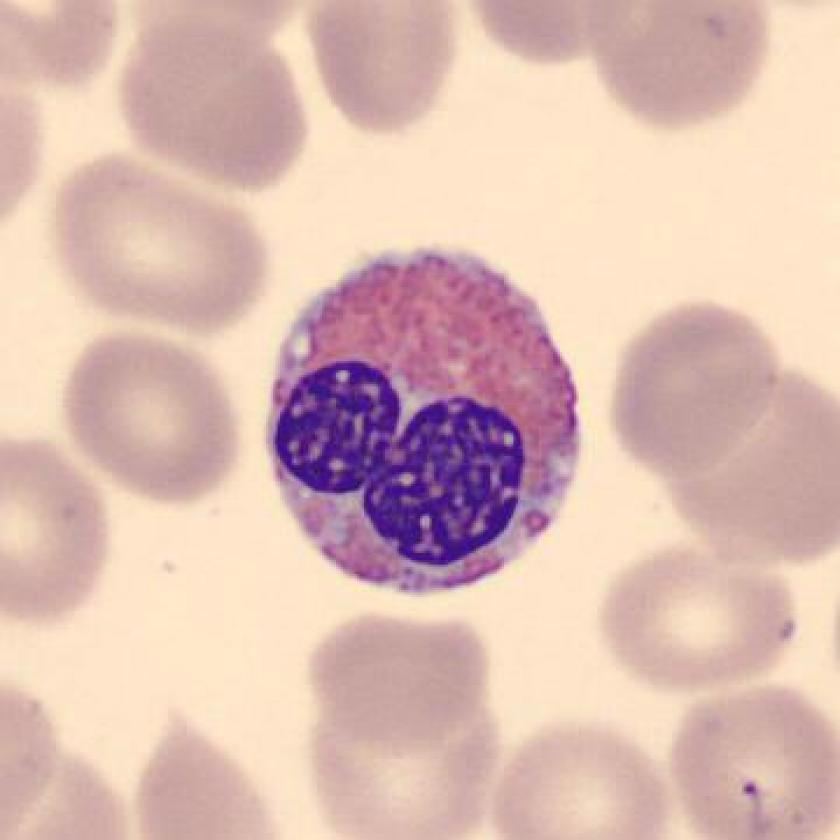eosinophil: (255, 235, 594, 605)
